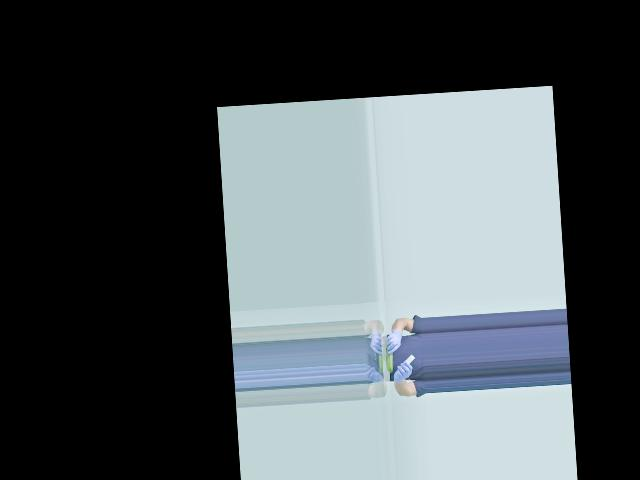cucumber: (385, 345, 393, 373)
